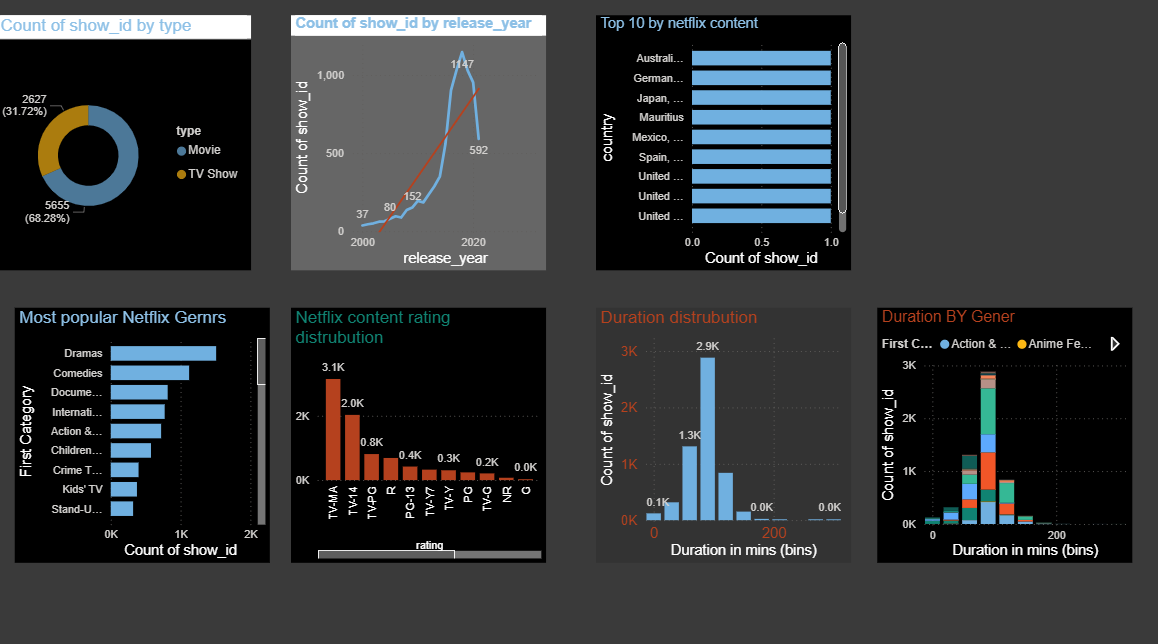

Layout of this report page (visuals, bound fields, positions):
{"tool":"powerbi","page":{"name":"Page 2","canvas":[1280,720],"ordinal":1},"visuals":[{"type":"donutChart","fields":{"Category":["netflix_titles.type"],"Y":["CountNonNull(netflix_titles.show_id)"]},"box":[0,28.8,279.9,279.9],"z":0},{"type":"lineChart","fields":{"Category":["netflix_titles.release_year"],"Y":["CountNonNull(netflix_titles.show_id)"]},"box":[323.8,28.8,279.9,279.9],"z":1},{"type":"clusteredBarChart","title":"Top 10 by netflix content","fields":{"Category":["netflix_titles.country"],"Y":["CountNonNull(netflix_titles.show_id)"]},"box":[658.7,28.8,279.9,279.9],"z":2},{"type":"clusteredBarChart","title":"Most popular Netflix Gernrs","fields":{"Category":["netflix_titles.First Category"],"Y":["CountNonNull(netflix_titles.show_id)"]},"box":[20.6,349.9,279.9,279.9],"z":3},{"type":"clusteredColumnChart","title":"Netflix content rating distrubution","fields":{"Category":["netflix_titles.rating"],"Y":["CountNonNull(netflix_titles.show_id)"]},"box":[324,350,280,280],"z":4},{"type":"clusteredColumnChart","title":"Duration distrubution ","fields":{"Category":["netflix_titles.Duration in mins (bins)"],"Y":["CountNonNull(netflix_titles.show_id)"]},"box":[659,350,280,280],"z":5},{"type":"columnChart","title":"Duration BY Gener","fields":{"Category":["netflix_titles.Duration in mins (bins)"],"Y":["CountNonNull(netflix_titles.show_id)"],"Series":["netflix_titles.First Category"]},"box":[967.4,349.9,279.9,279.9],"z":6}]}

Visuals, with their boxes in screenshot pixels (x1, y1, x2, y2), scaled from the page's 1280x720 canvas onto the 1158x644 screenshot:
donutChart - netflix_titles.type x CountNonNull(netflix_titles.show_id): <box>0,26,253,276</box>
lineChart - netflix_titles.release_year x CountNonNull(netflix_titles.show_id): <box>293,26,546,276</box>
"Top 10 by netflix content" clusteredBarChart: <box>596,26,849,276</box>
"Most popular Netflix Gernrs" clusteredBarChart: <box>19,313,272,563</box>
"Netflix content rating distrubution" clusteredColumnChart: <box>293,313,546,564</box>
"Duration distrubution " clusteredColumnChart: <box>596,313,850,564</box>
"Duration BY Gener" columnChart: <box>875,313,1128,563</box>
